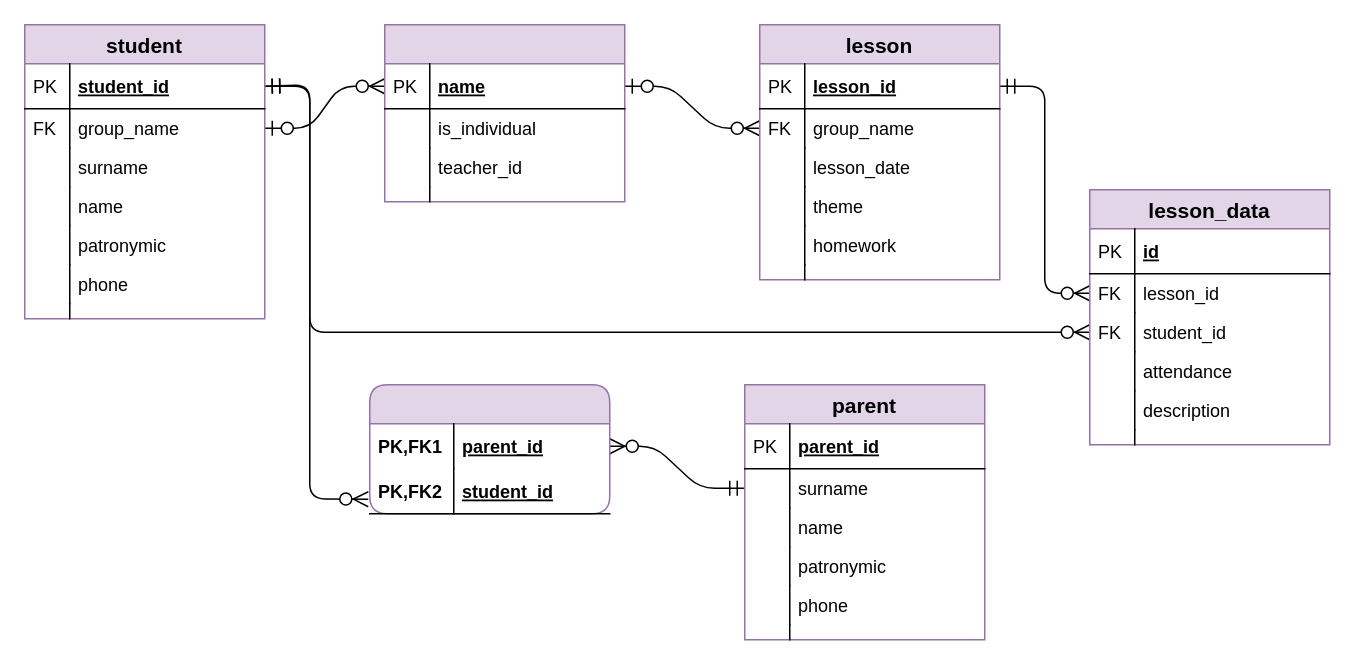
The diagram is 1355 pixels wide and 665 high, and some of its shapes have lost their labels. The box of each missing label's shape, as (x1, y1, x2, y2) in pixels:
learning_grop: (383, 23, 625, 202)
parent_student: (368, 383, 610, 514)
